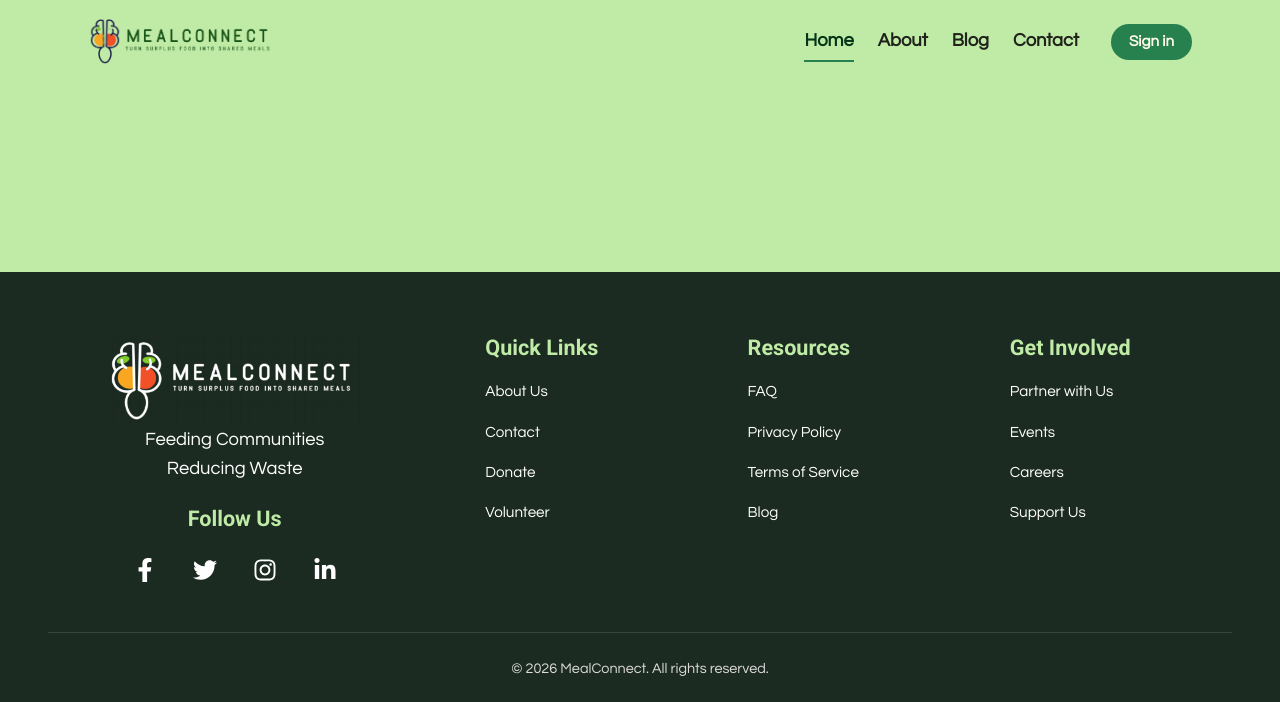
Scenario: footer navigation › footer link Careers resolves to a real page
The width and height of the screenshot is (1280, 702).
(page scrolled)
Click the link "Careers" at {"x": 1037, "y": 472}, box [1010,465,1064,480]
(page scrolled)
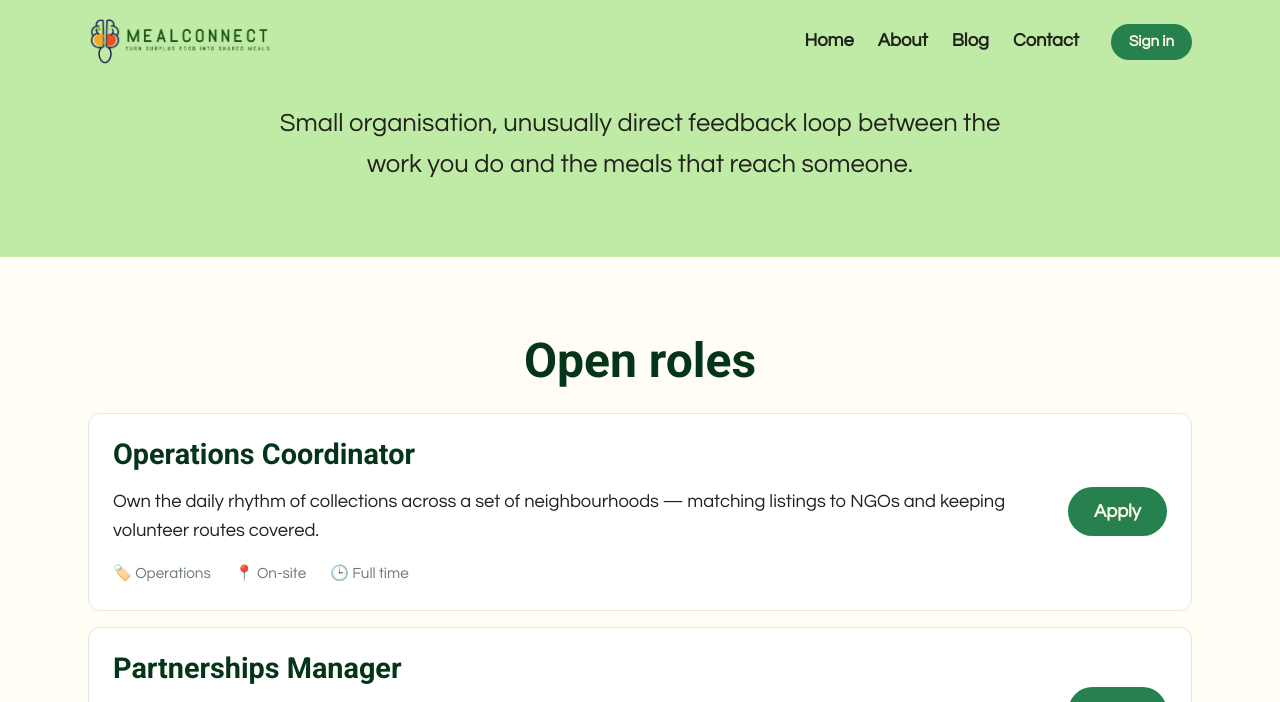
Now the heading "Open roles" is shown, box [524,332,756,389]
